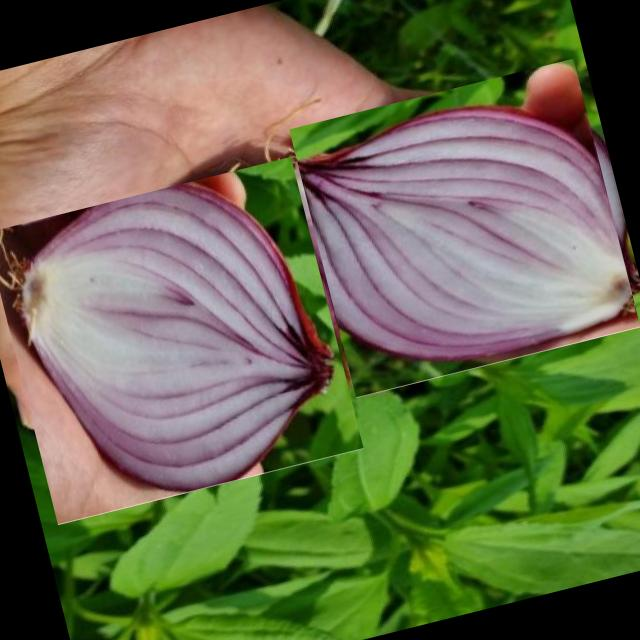Onion: (0, 153, 361, 527), (288, 58, 640, 398)
